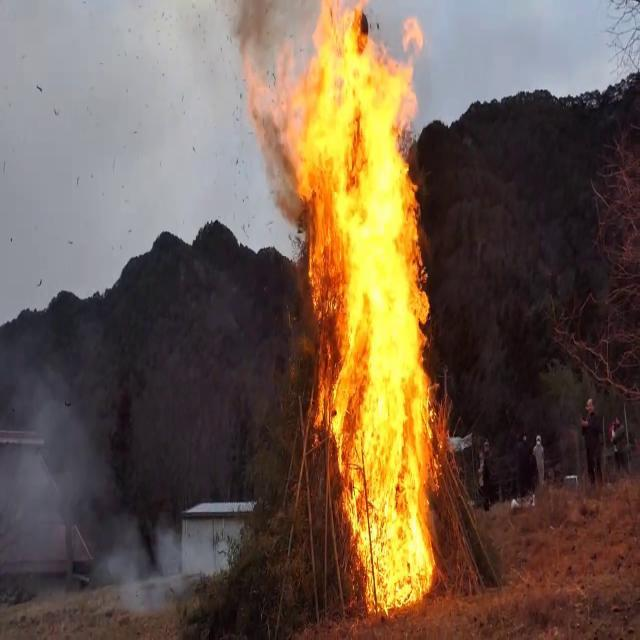Fire: (281, 0, 447, 620)
Smoke: (0, 303, 176, 605)
